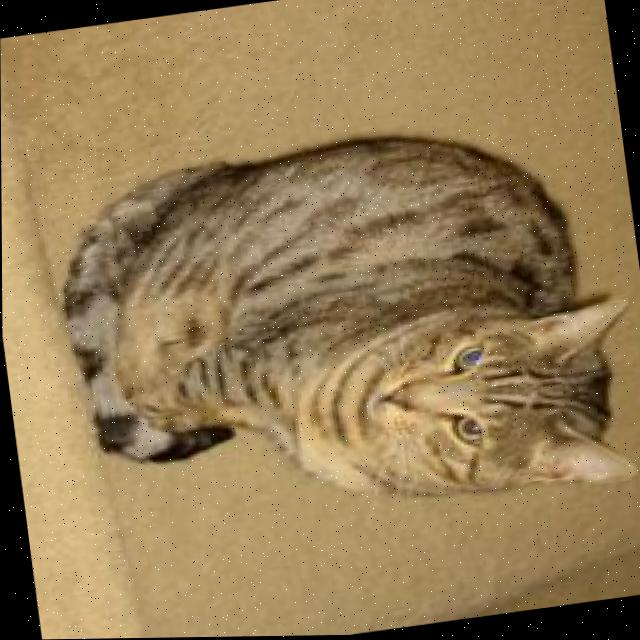Bengal: (19, 100, 640, 563)
